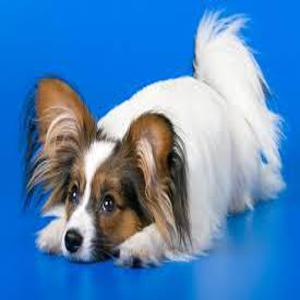yell: (23, 8, 286, 267)
